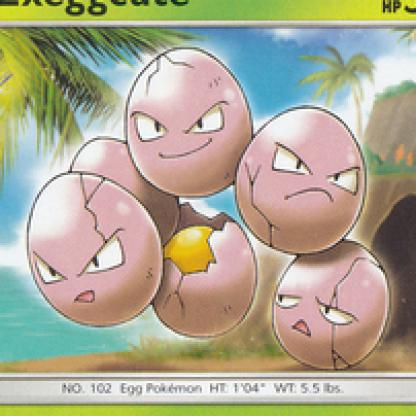Exeggcute: (3, 46, 415, 376)
